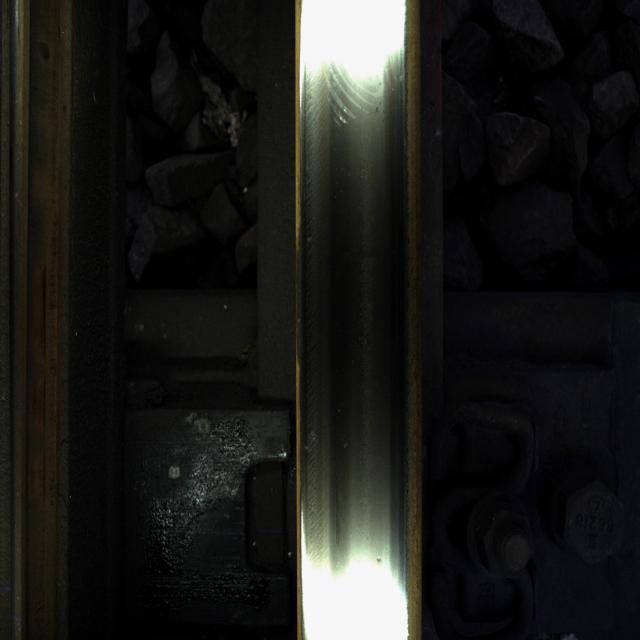break: (308, 31, 417, 611)
